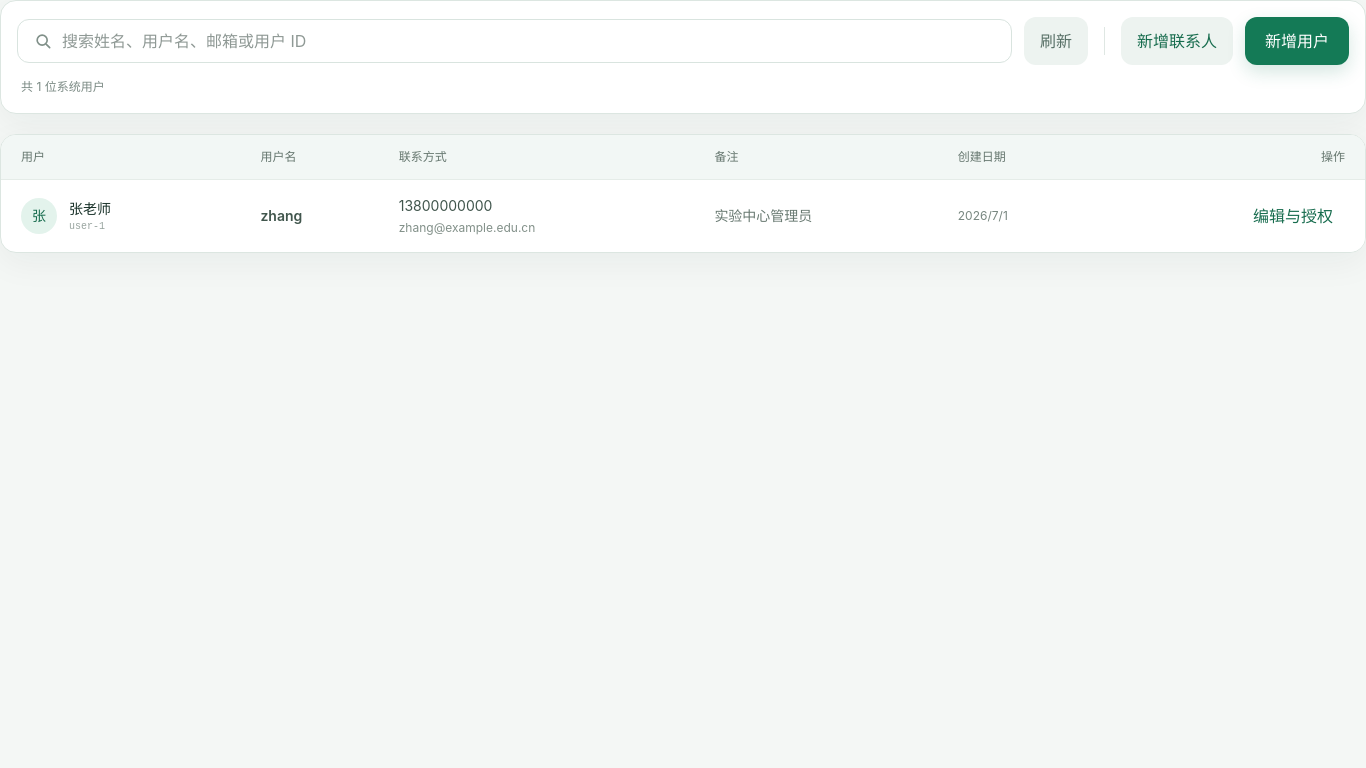
Test: AccountManagement › opens an extensible permission tree from a listed user
expect the text "张老师" is shown: met, box left=69, top=198, right=111, bottom=218
Click the button "编辑与授权": coordinates (1293, 216) left=1241, top=196, right=1345, bottom=236
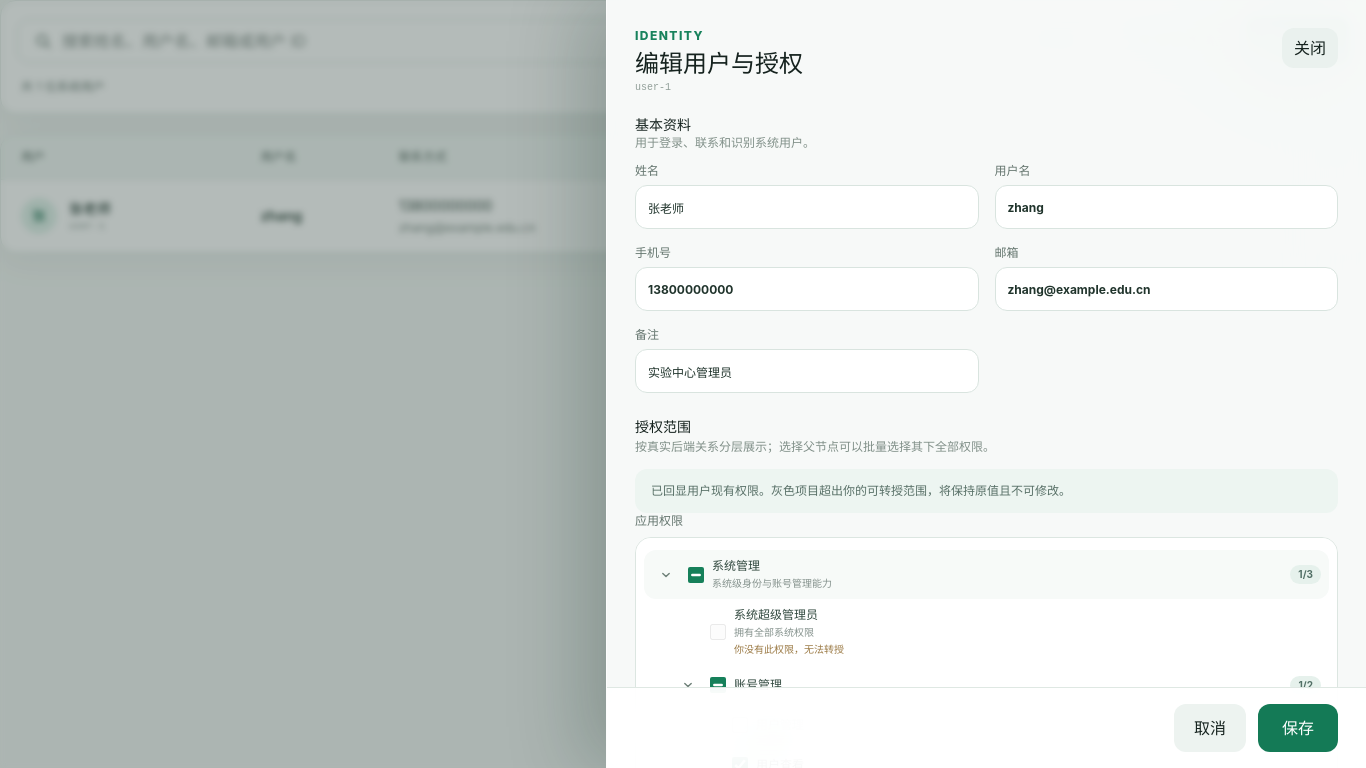
expect the dialog "编辑用户与授权" is shown: met
expect the text "系统管理" is shown: met, box left=712, top=558, right=760, bottom=573
expect the text "已回显用户现有权限。灰色项目超出你的可转授范围，将保持原值且不可修改。" is shown: met, box left=635, top=469, right=1338, bottom=513
